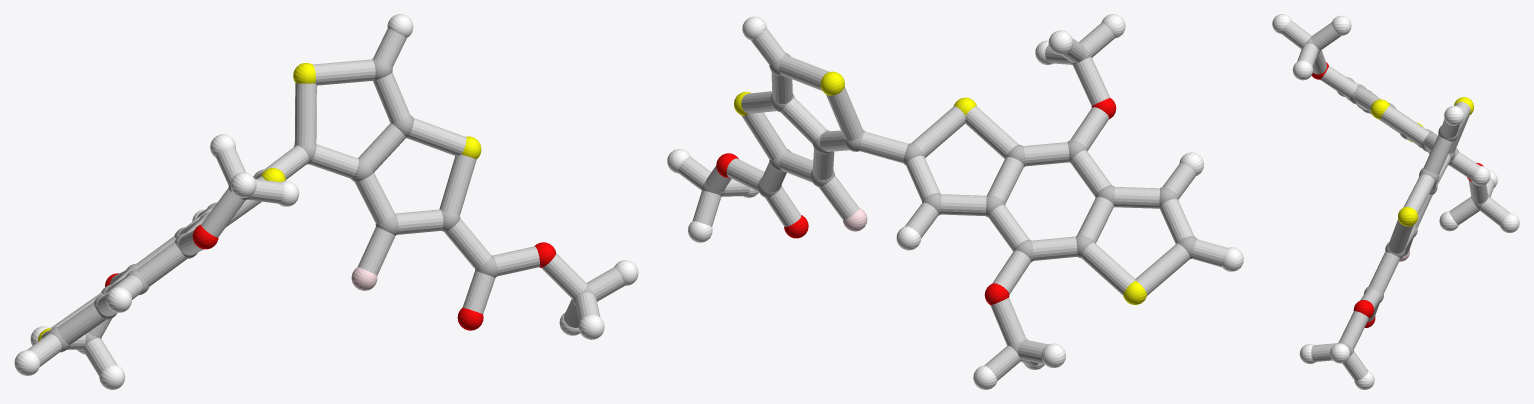
File: color.glb
3 views of the same model, side by side, from view 1: azimuth 30°, elevation 25°; view 2: azimuth 150°, elevation 25°; view 3: azimuth 270°, elevation 25° (orthographic). The views are drawn at different scales.
Visible parts, largest first — view 1: grp15205, grp8689, grp1, grp13395, grp7241; view 2: grp15205, grp8689, grp1, grp7241, grp13395; view 3: grp15205, grp8689, grp1, grp7241, grp13395.
Part boxes in pixels (bbox=[...]): grp15205: bbox=[27, 29, 624, 375]; grp8689: bbox=[14, 14, 638, 389]; grp1: bbox=[47, 58, 593, 352]; grp13395: bbox=[105, 224, 555, 330]; grp7241: bbox=[38, 63, 481, 341]; grp15205: bbox=[678, 22, 1227, 380]; grp8689: bbox=[667, 14, 1243, 389]; grp1: bbox=[702, 48, 1197, 360]; grp7241: bbox=[734, 71, 1146, 304]; grp13395: bbox=[716, 98, 1116, 305]; grp15205: bbox=[1281, 20, 1509, 380]; grp8689: bbox=[1272, 14, 1519, 389]; grp1: bbox=[1305, 37, 1489, 355]; grp7241: bbox=[1370, 97, 1473, 226]; grp13395: bbox=[1311, 62, 1483, 327].
Bounding box in the file's own units: 16.31 × 7.78 × 7.31.
